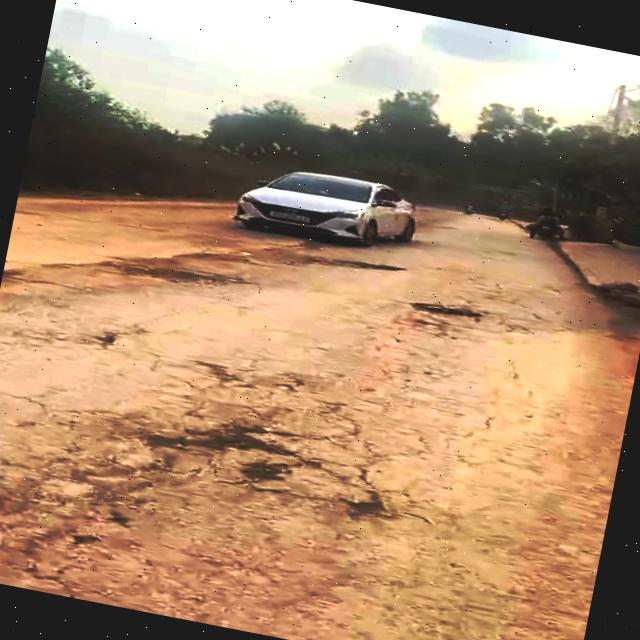pothole: (97, 246, 256, 300), (410, 294, 487, 325)
